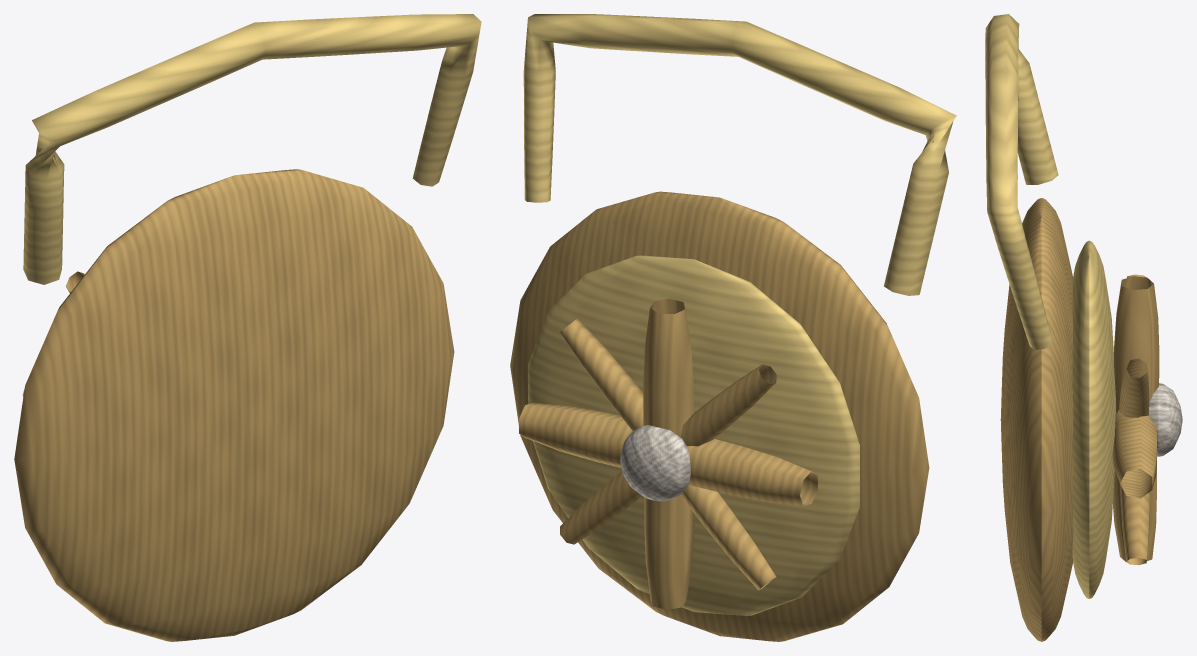
Rendered from acc_guild_badge.glb.
3 views of the same model, side by side, from view 1: azimuth 30°, elevation 25°; view 2: azimuth 150°, elevation 25°; view 3: azimuth 270°, elevation 25° (orthographic). The views are drawn at different scales.
Parts seen in each view (by area): view 1: acc_guild_badge; view 2: acc_guild_badge; view 3: acc_guild_badge.
Boxes of the visible parts, box(x1,y1,x2,y2) form: acc_guild_badge: box(14, 14, 481, 641); acc_guild_badge: box(510, 14, 956, 641); acc_guild_badge: box(985, 14, 1182, 641).
Size of the model in its own units: 0.4632 by 0.6272 by 0.2029.
3 materials, 3 textured.
